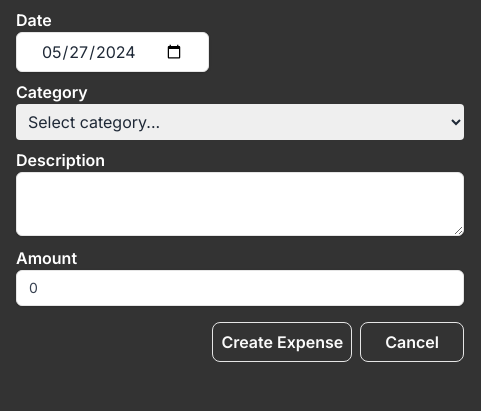
Test: CreateTransactionForm › displays error message when form is submitted with invalid data
Click the button "Create Expense" at point(282, 342), box left=212, top=322, right=352, bottom=362
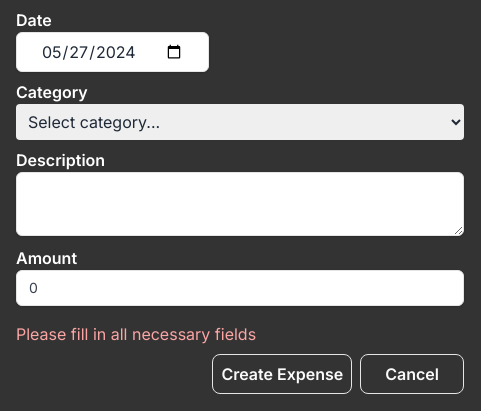
Expected: the text "Please fill in all necessary fields" is shown, left=16, top=324, right=256, bottom=344
